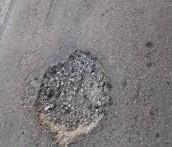pothole: (27, 52, 114, 136)
